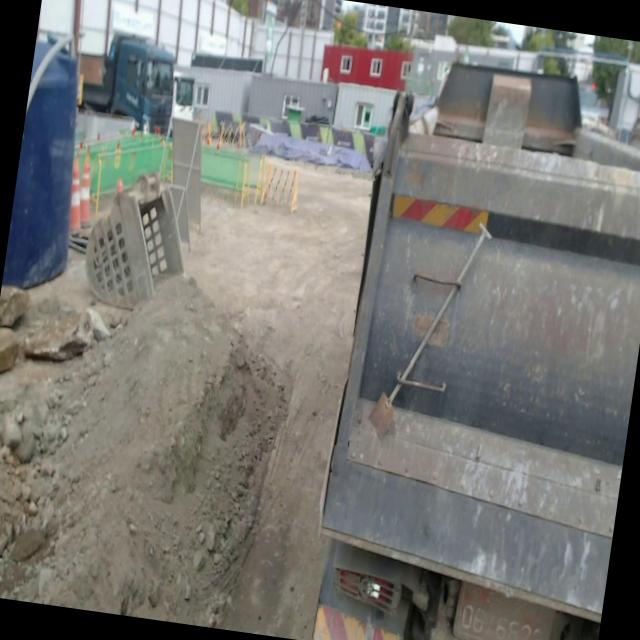stone: (14, 300, 97, 362), (0, 286, 30, 328), (0, 327, 20, 373)
white-sand: (0, 169, 369, 640)
